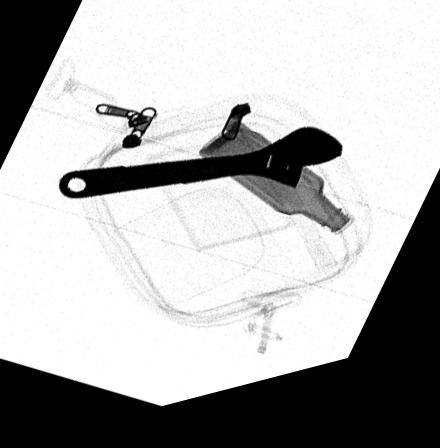Wrench: (56, 139, 344, 204)
